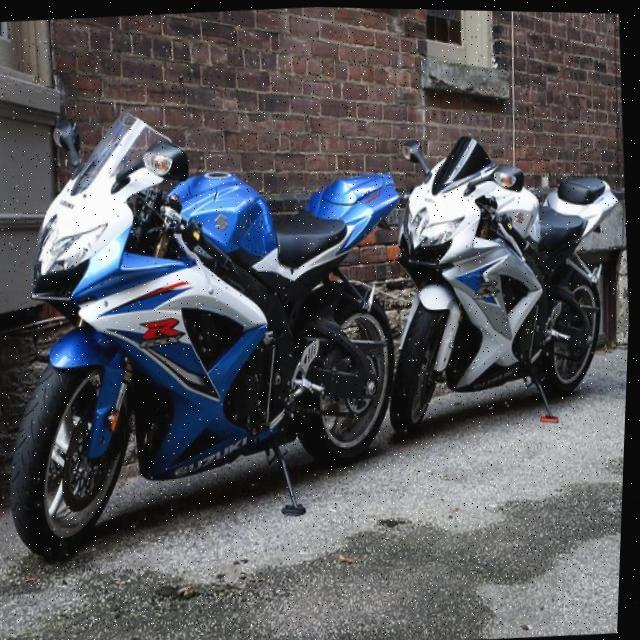motorcycle: (0, 76, 431, 583), (369, 119, 636, 437)
